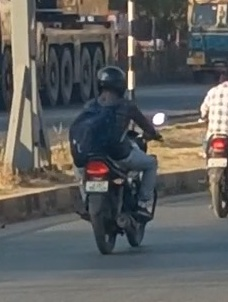BikeWithRider: (66, 65, 168, 257)
Helmet: (95, 65, 130, 100)
